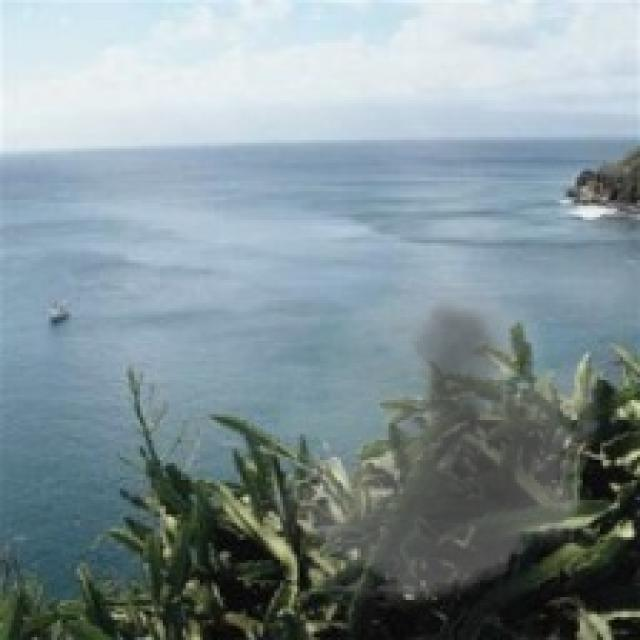Smoke: (248, 271, 620, 620)
